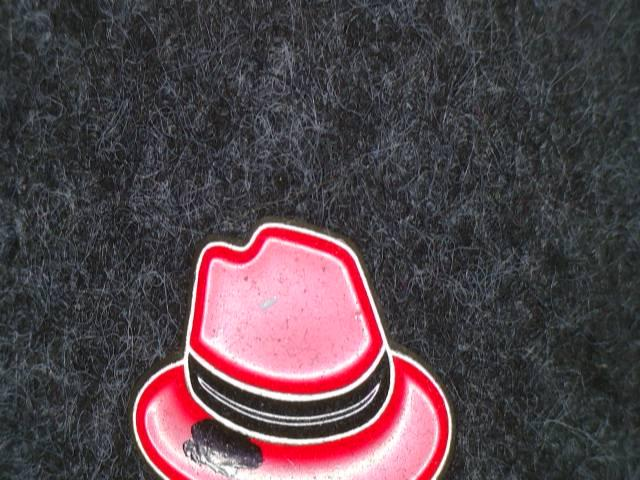Red-Hat: (91, 180, 526, 480)
Scratch: (167, 402, 275, 479)
